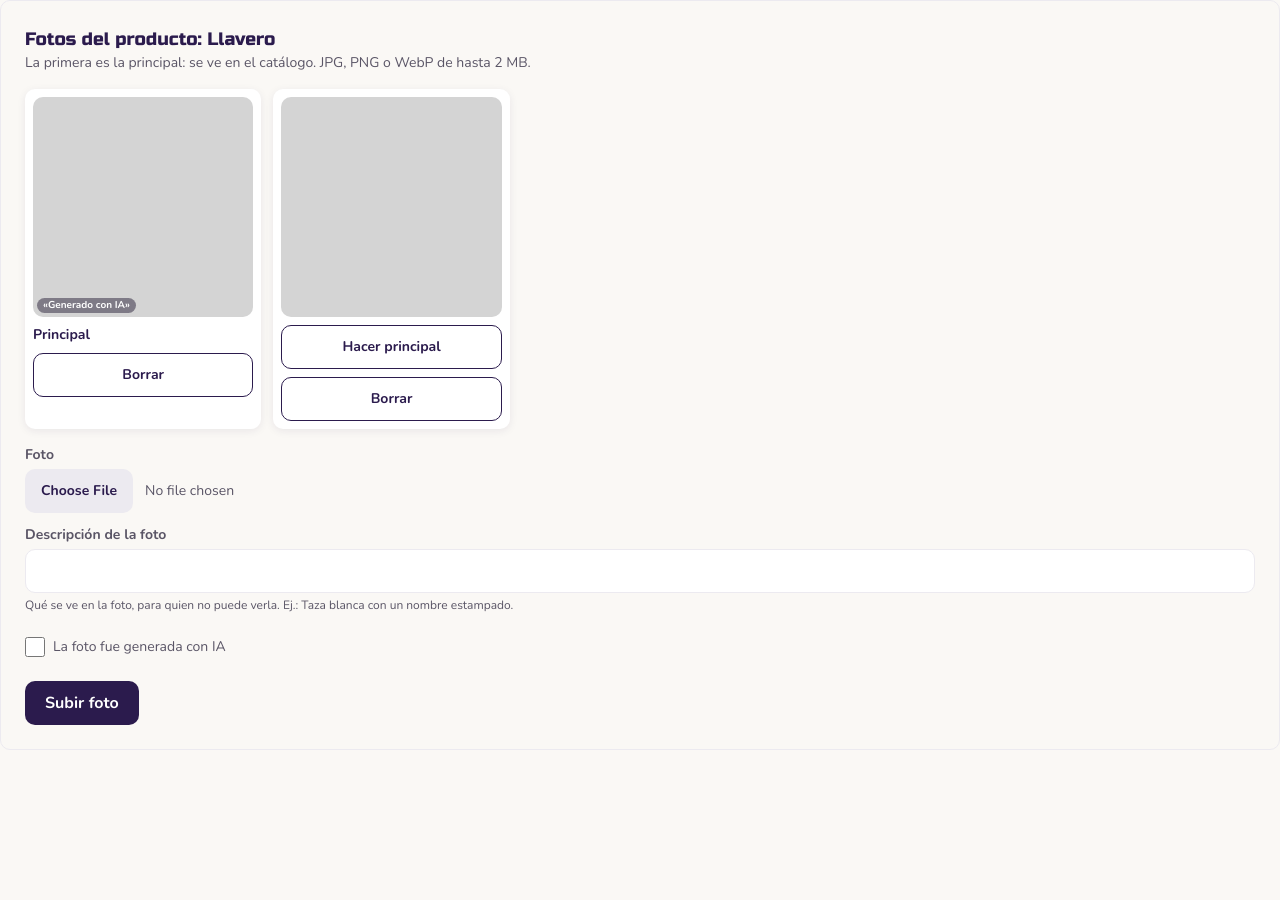
Scenario: FotosProducto › B3-R4 · pide confirmar antes de borrar una foto
This screenshot has width=1280, height=900.
Click the button with aria-label "Borrar: Llavero real" at (392, 399), box [281,377,502,421]
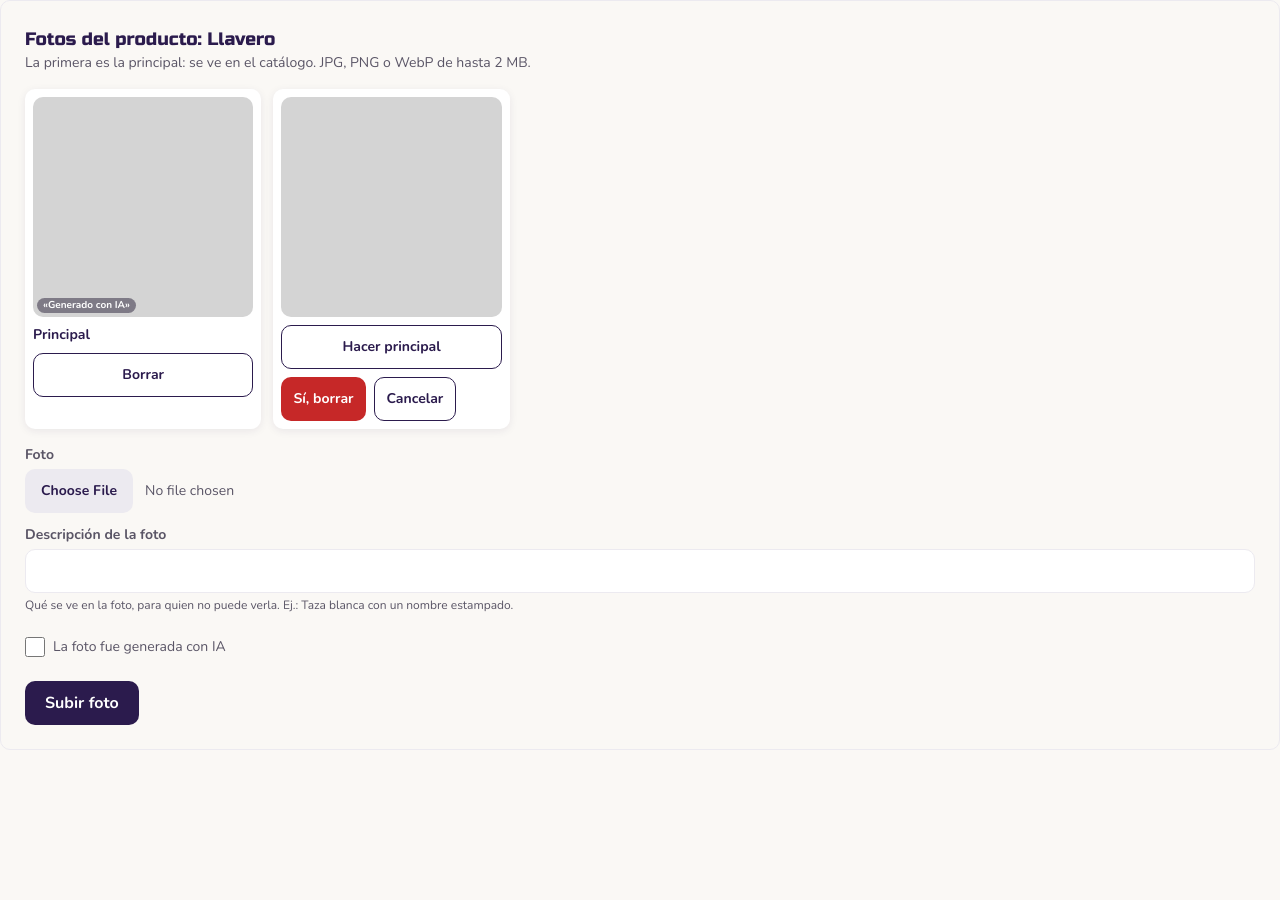
Click the button "Sí, borrar" at (324, 399), box [281,377,366,421]
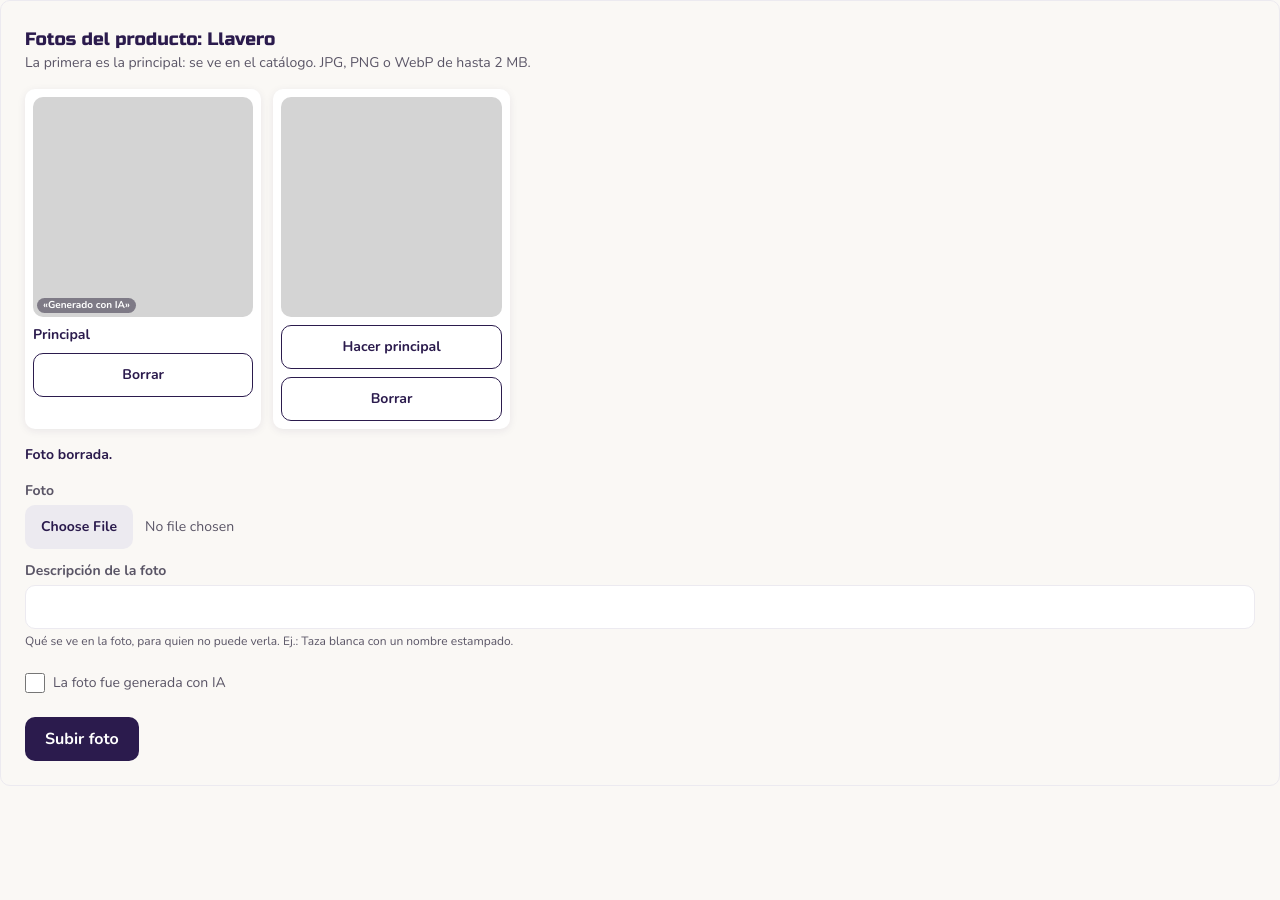
Now the message reads "Foto borrada.", box [25,445,112,464]
